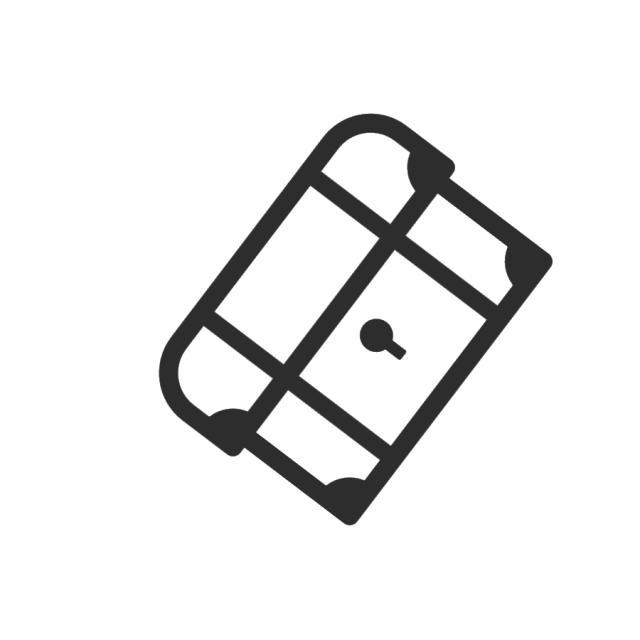treasure_box: (151, 108, 560, 536)
